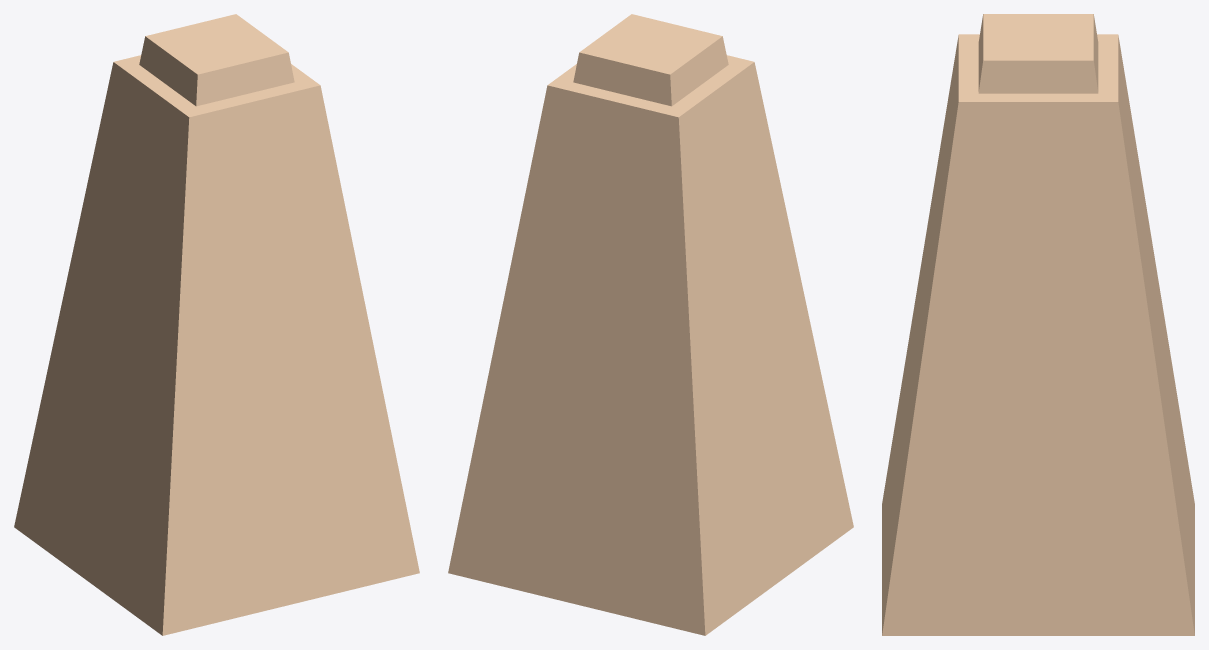
3 views of the same model, side by side, from view 1: azimuth 30°, elevation 25°; view 2: azimuth 150°, elevation 25°; view 3: azimuth 270°, elevation 25° (orthographic). The views are drawn at different scales.
Visible parts, largest first — view 1: BB_5; view 2: BB_5; view 3: BB_5.
Boxes of the visible parts, left/top/right/bottom form: BB_5: left=14, top=14, right=419, bottom=635; BB_5: left=448, top=14, right=853, bottom=635; BB_5: left=882, top=14, right=1194, bottom=635.
Size of the model in its own units: 645 by 1212 by 645.
